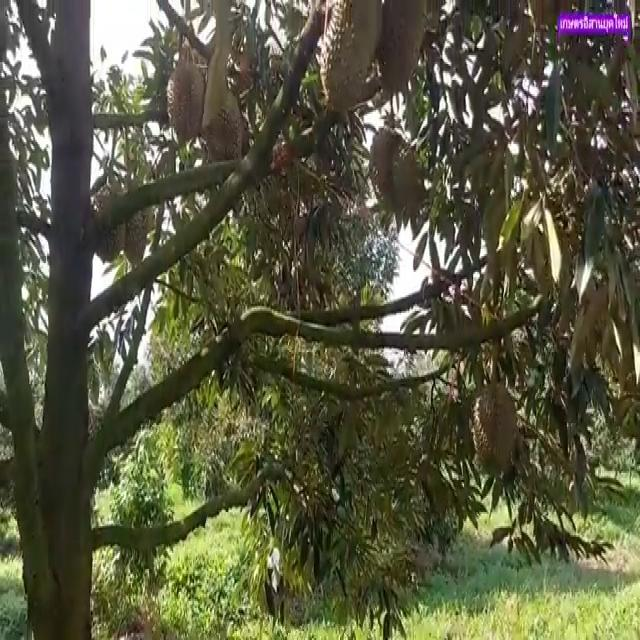durian: (316, 0, 385, 113), (368, 0, 433, 95), (466, 374, 522, 481), (365, 117, 424, 208), (193, 82, 245, 182), (164, 56, 209, 151), (88, 178, 126, 268), (115, 180, 146, 272)
